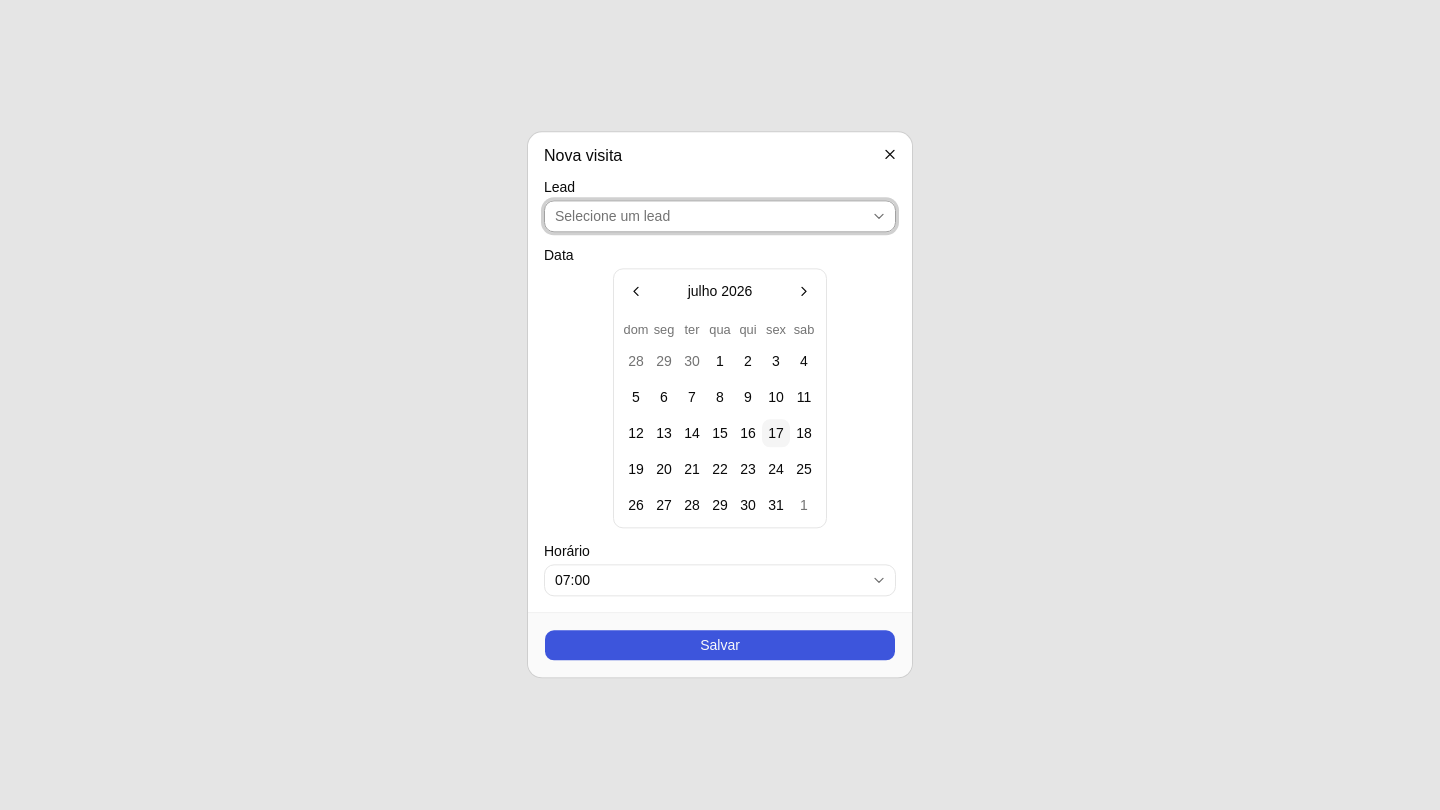
Test case: VisitaFormDialog › modo criar: exige lead selecionado
What coordinates should you click on to do the following:
click the button "Salvar"
I would click on:
 (720, 646)
Its box is left=544, top=630, right=896, bottom=662.
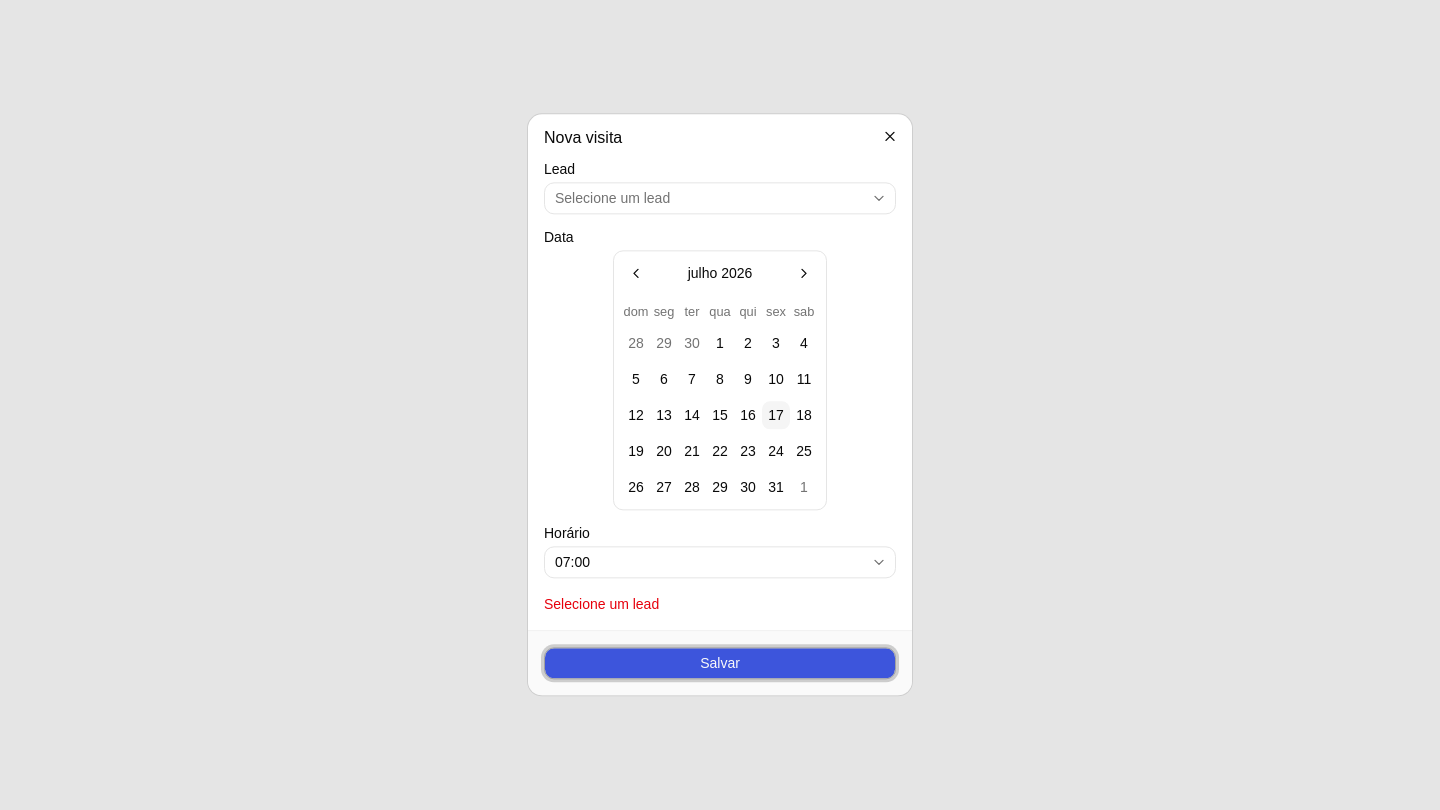
Result: the message reads "Selecione um lead" at left=544, top=597, right=659, bottom=613
